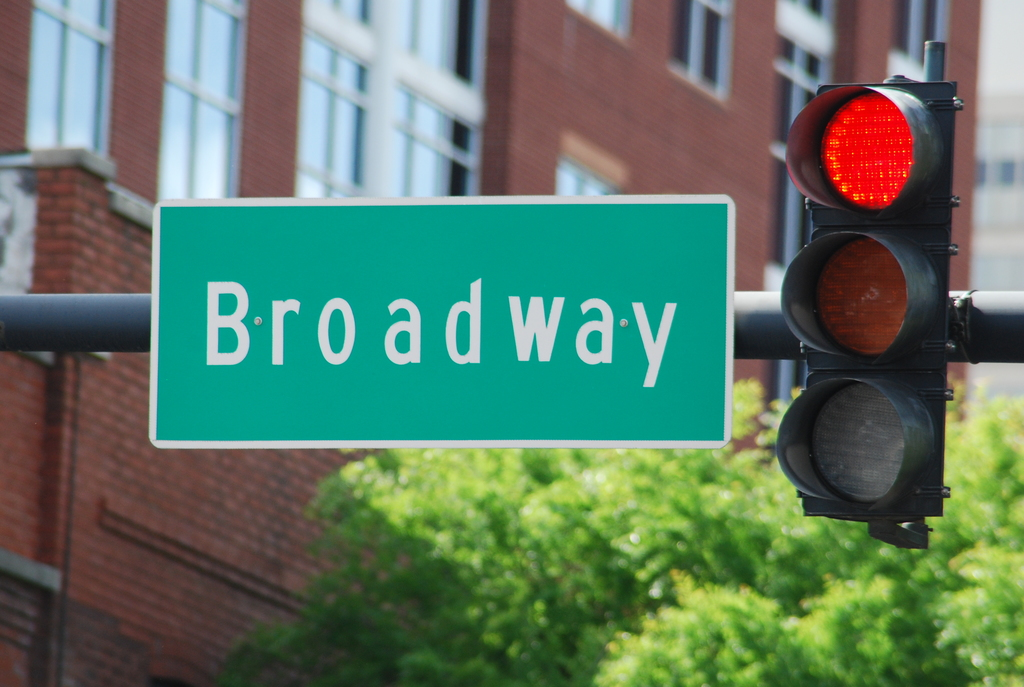red_light: (805, 93, 923, 216)
